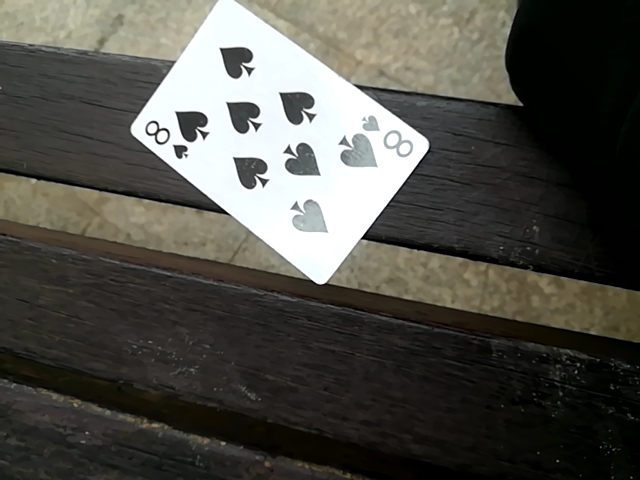ht 8: (125, 0, 431, 289)
